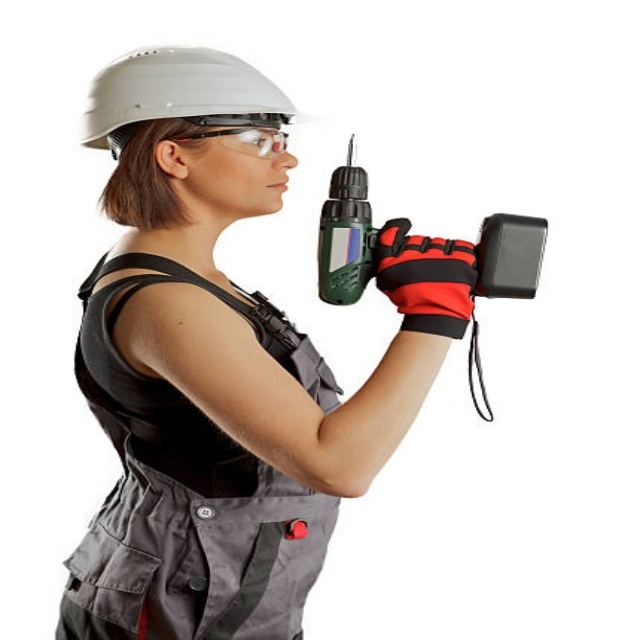Gafas: (162, 128, 293, 161)
Guantes: (373, 224, 480, 340)
Sin_mascara: (246, 168, 296, 211)
